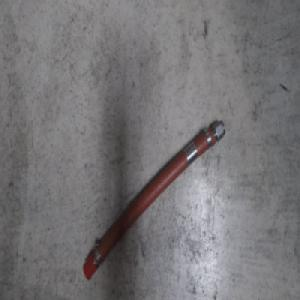Hose: (81, 118, 226, 284)
